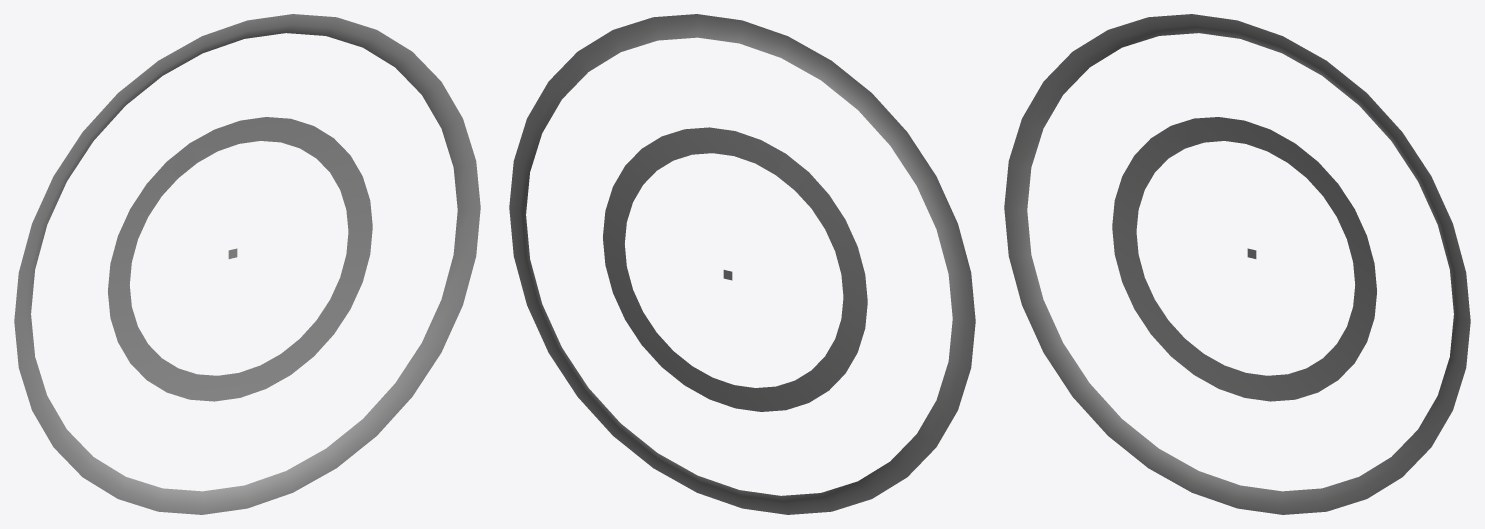
Rendered from MeshPan_18_0_GeomSubset_2.obj.
The picture shows the model from 3 angles, left to right: view 1: azimuth 30°, elevation 25°; view 2: azimuth 150°, elevation 25°; view 3: azimuth 330°, elevation 25°; orthographic projection.
Visible parts, largest first — view 1: MeshPan_18_0_GeomSubset_2; view 2: MeshPan_18_0_GeomSubset_2; view 3: MeshPan_18_0_GeomSubset_2.
Part boxes in pixels (bbox=[...]): MeshPan_18_0_GeomSubset_2: bbox=[14, 14, 480, 514]; MeshPan_18_0_GeomSubset_2: bbox=[509, 14, 975, 514]; MeshPan_18_0_GeomSubset_2: bbox=[1004, 14, 1470, 514].
Size of the model in its own units: 0.1578 by 0.1578 by 0.00878.
